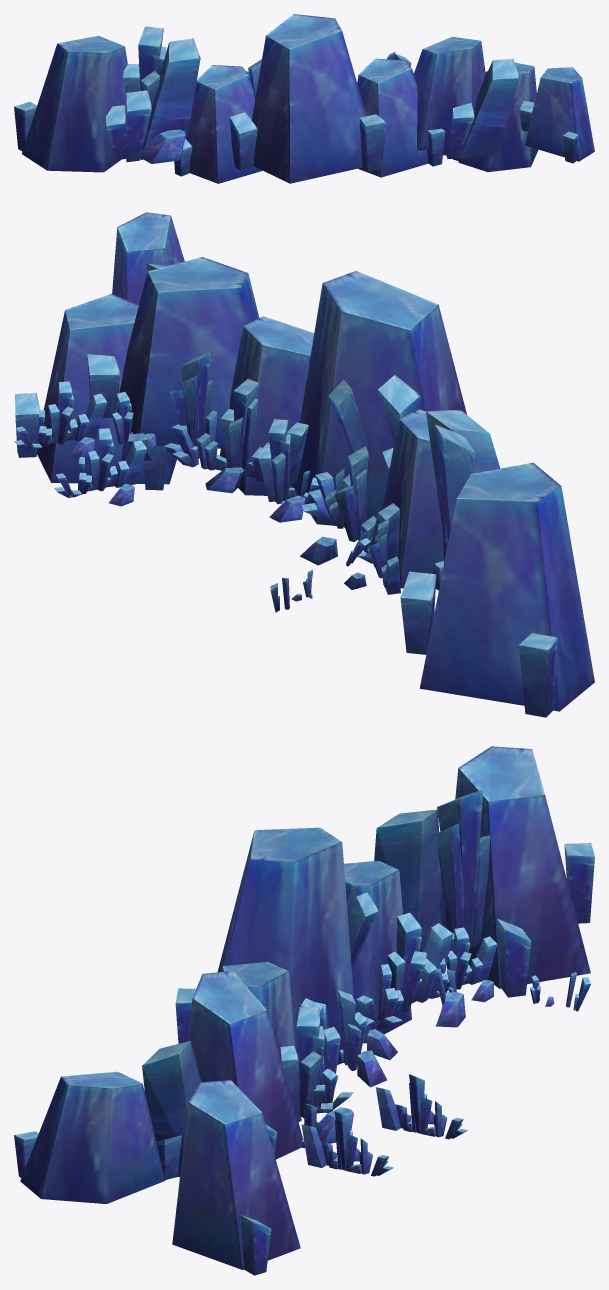
Rendered from Area02_4.fbx.
3 views of the same model, one above another, from view 1: azimuth 30°, elevation 25°; view 2: azimuth 150°, elevation 25°; view 3: azimuth 270°, elevation 25° (orthographic). The views are drawn at different scales.
Visible parts, largest first — view 1: Area02_4; view 2: Area02_4; view 3: Area02_4.
Part boxes in pixels (left/top/right/bottom): Area02_4: left=14, top=14, right=594, bottom=183; Area02_4: left=14, top=212, right=594, bottom=717; Area02_4: left=14, top=746, right=594, bottom=1275.
Size of the model in its own units: 8023 by 2852 by 5837.
